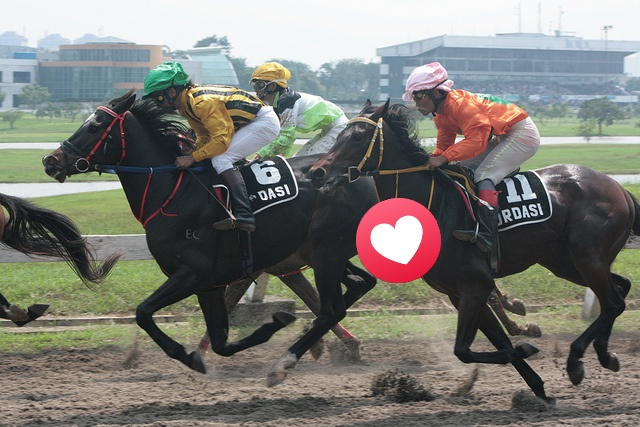love: (356, 198, 441, 283)
